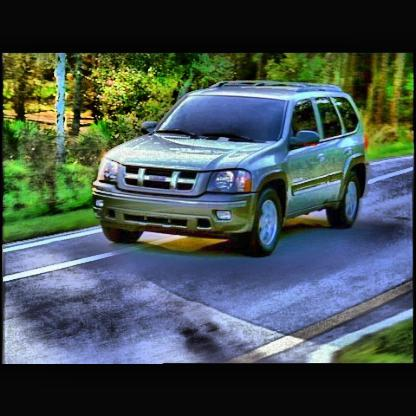Isuzu Ascender SUV 2008: (94, 88, 376, 261)
